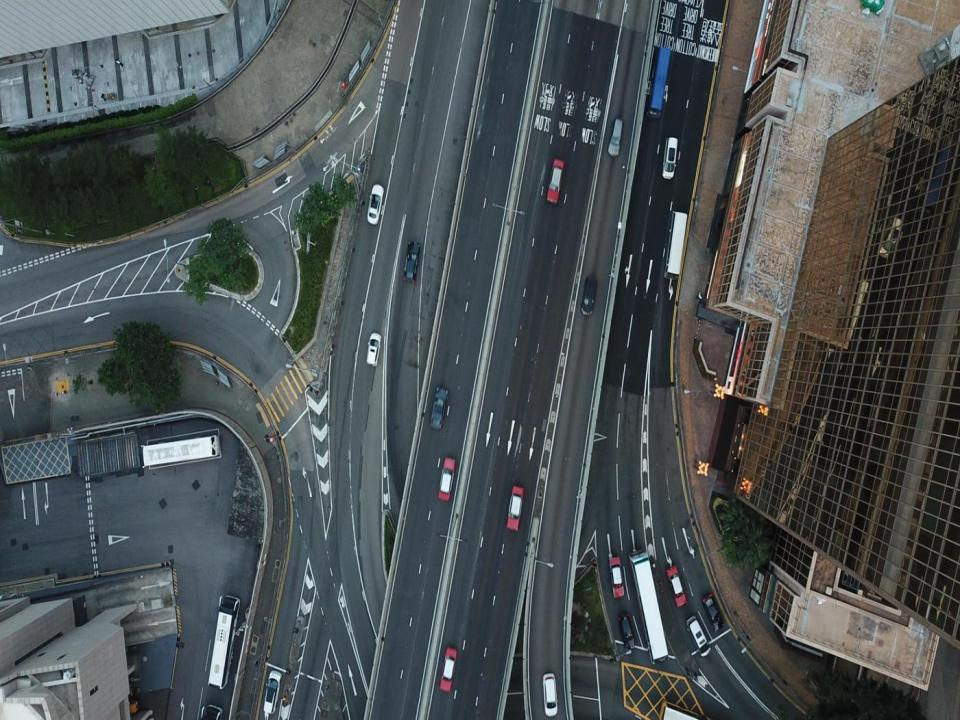bus: (629, 548, 669, 664), (207, 595, 239, 689), (141, 434, 221, 470), (647, 46, 671, 117), (665, 211, 687, 277)
car: (687, 615, 710, 656), (545, 157, 565, 204), (430, 388, 449, 432), (262, 670, 281, 714), (507, 483, 524, 531), (439, 647, 457, 691), (660, 135, 678, 179), (703, 592, 723, 631), (438, 457, 456, 499), (668, 564, 686, 606), (608, 554, 624, 598), (618, 611, 636, 649), (367, 184, 384, 224), (542, 671, 557, 716), (404, 240, 420, 282), (580, 276, 597, 315), (609, 118, 624, 157), (366, 332, 381, 367)
